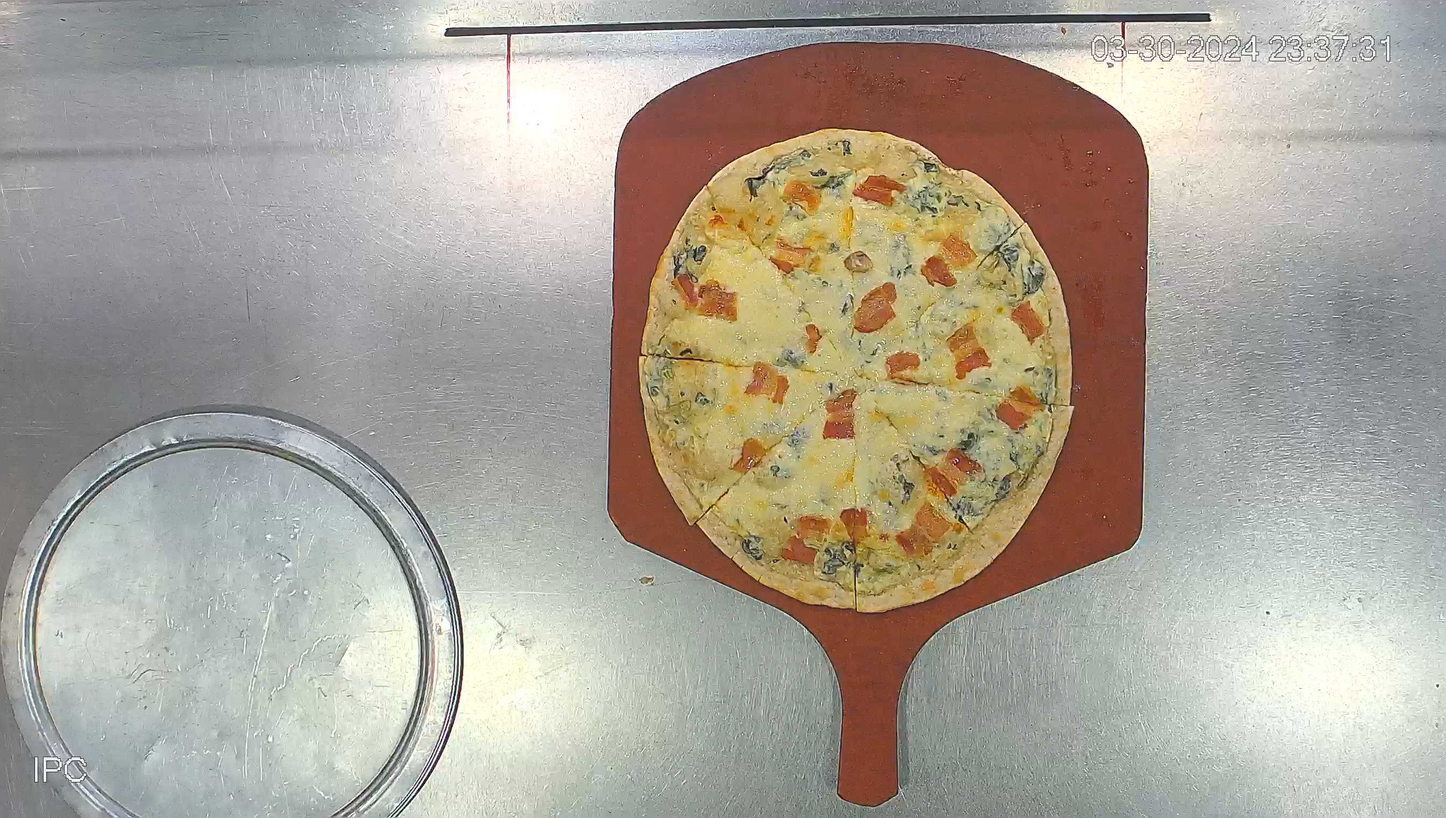pepporoni: (638, 129, 1072, 614)
